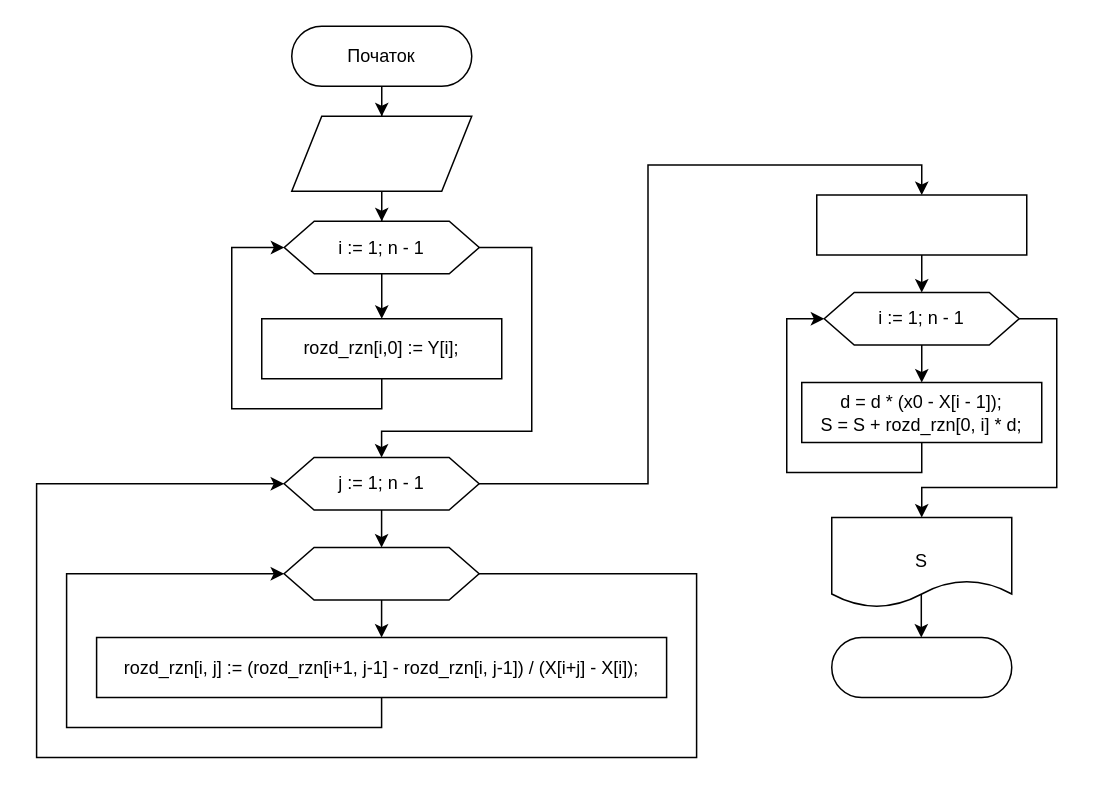
Some shapes in this 1097 by 797 pixel diagram are drawn without their labels. Each missing label, with the centre of its shape:
d = 1; S = rozd_rzn[0,0];: (921,224)
i := 0; n - j - 1: (381,573)
X, Y, x0, n: (381,153)
Кінець: (921,667)
